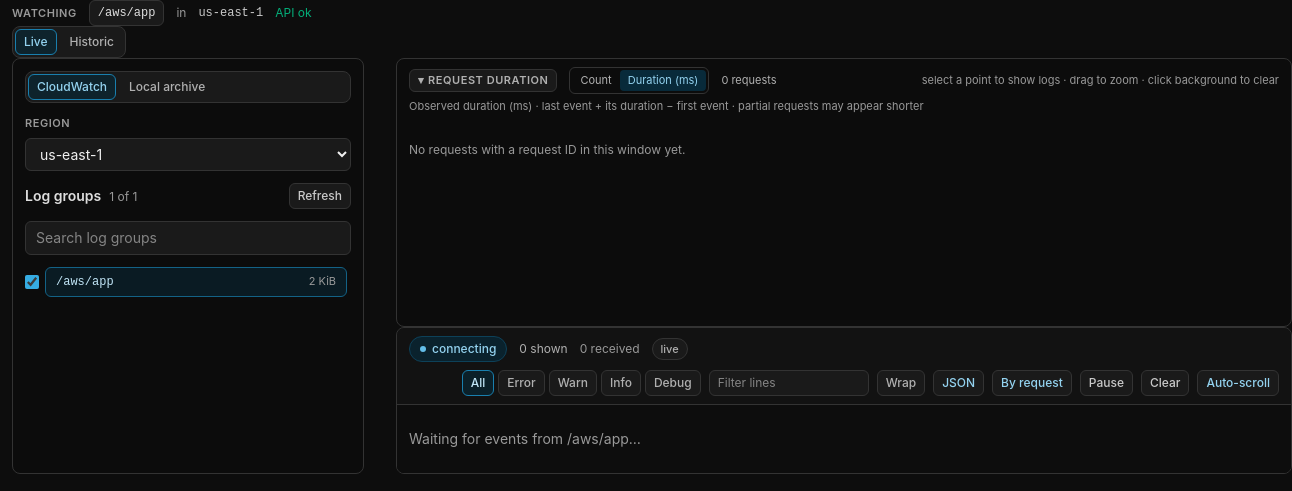
Test: page source switch › switches the list and the stream to the archive and mirrors source=archive in the URL
Click the button with test id "source-archive".
click(167, 87)  # box [120,74,214,100]
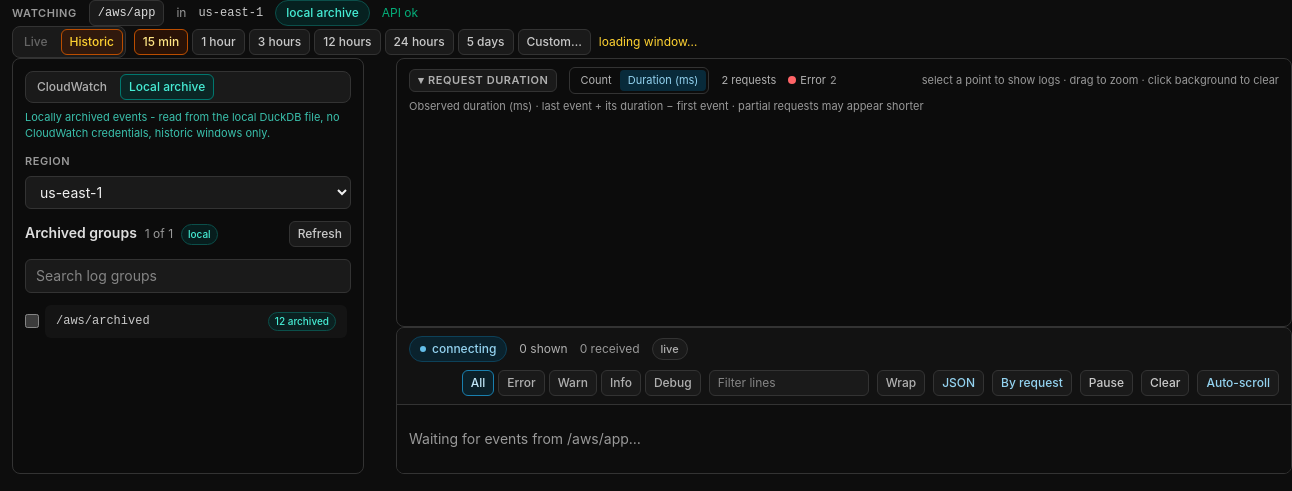
Result: the number of elements with test id "group-archived-count" is 1 at [268,312,336,331]
Result: the text with test id "group-archived-count" reads "12 archived" at [275,314,329,326]
Result: the text "local archive" is shown at [275,0,370,26]
